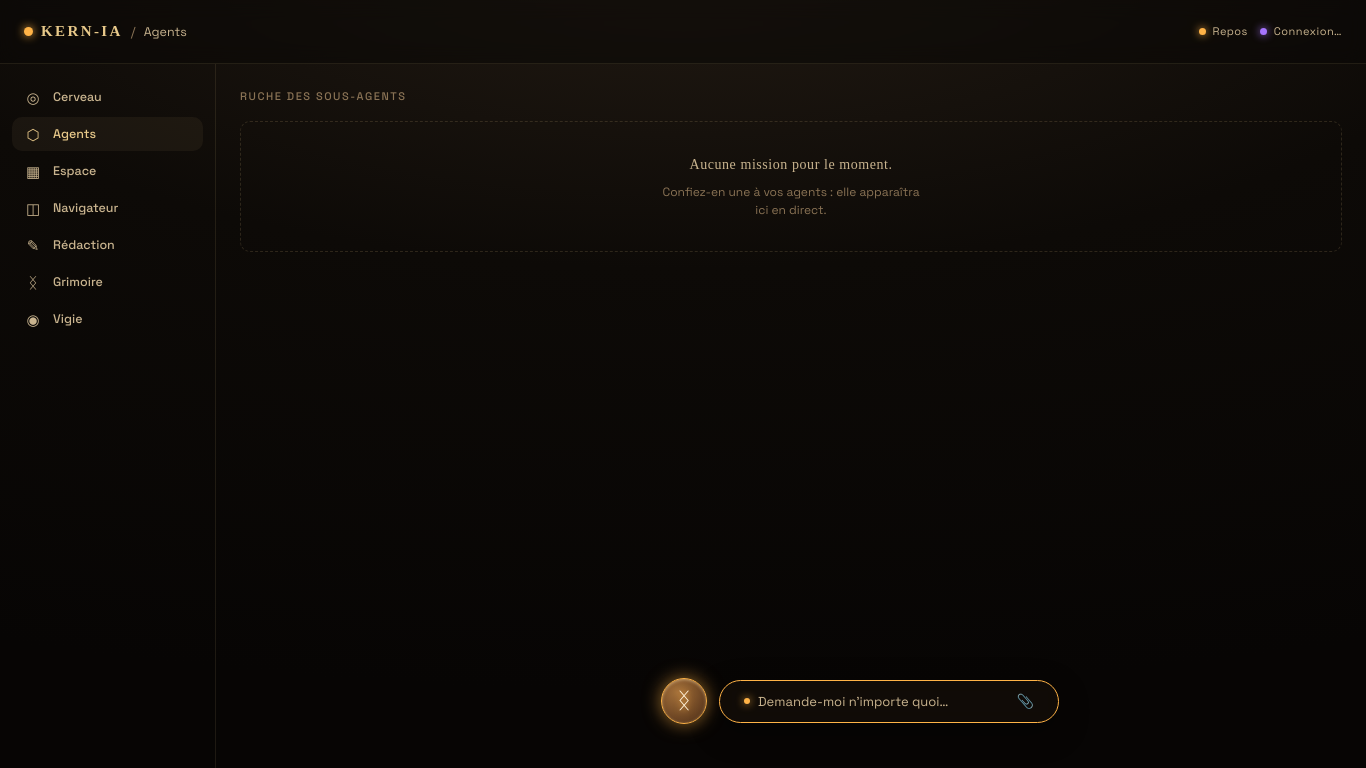
draws a live widget in the Espace once kern-orch answers
The image size is (1366, 768).
Click the tab "▦ Espace". click: (108,171)
box: [12,154,203,188]
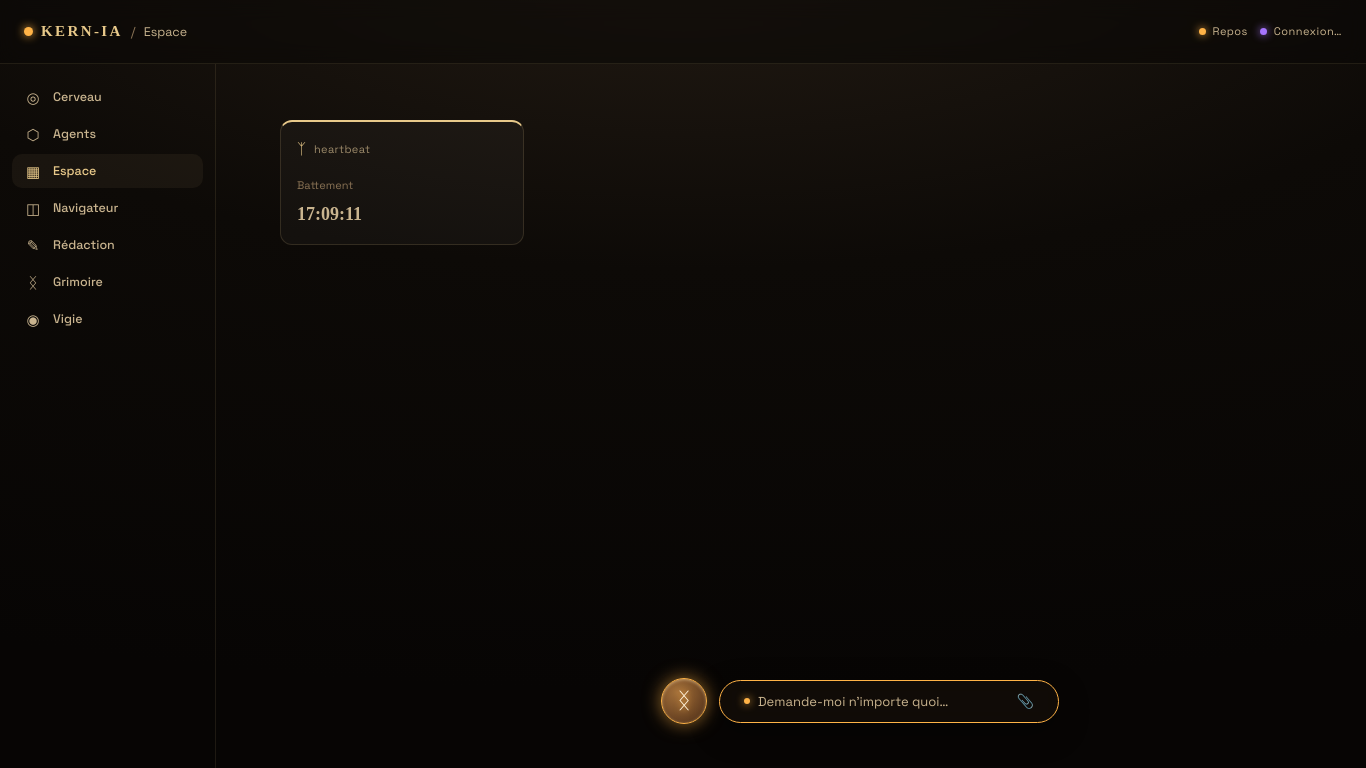
expect the text "Battement" is shown: met, box [297,178,353,192]
